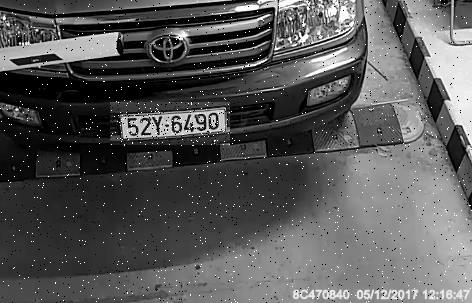License-plate: (111, 104, 231, 148)
